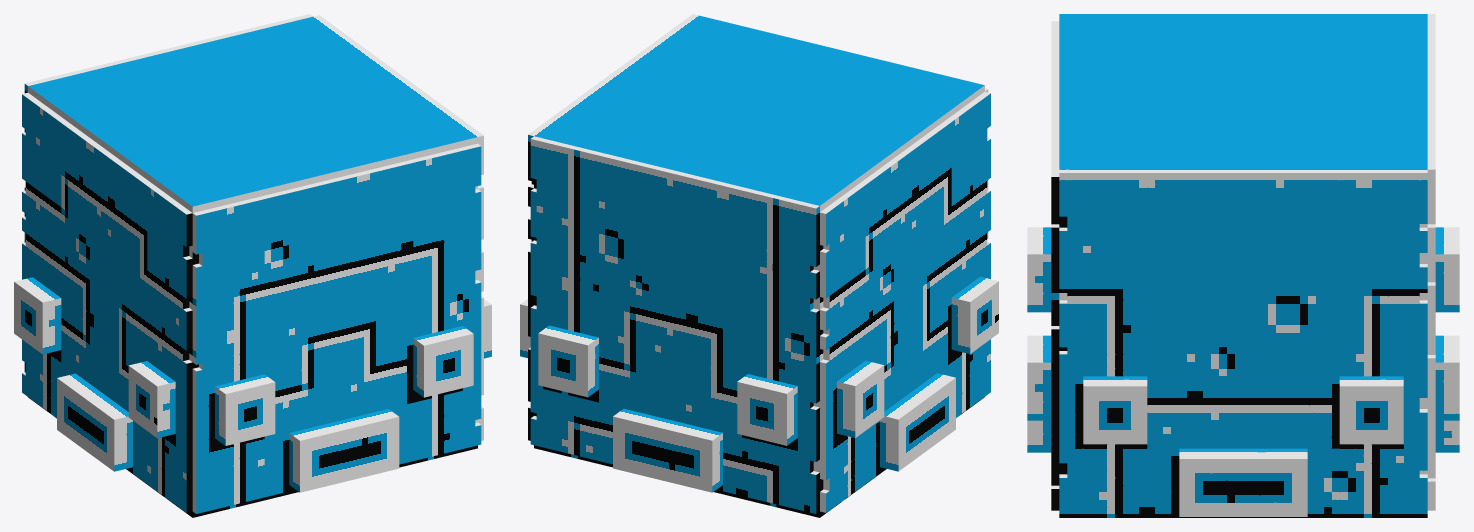
File: cmy_zuhead_lao.fezao.glb
The picture shows the model from 3 angles, left to right: view 1: azimuth 30°, elevation 25°; view 2: azimuth 150°, elevation 25°; view 3: azimuth 270°, elevation 25°; orthographic projection. The views are drawn at different scales.
Visible parts, largest first — view 1: CMY_ZUHEAD_LAO; view 2: CMY_ZUHEAD_LAO; view 3: CMY_ZUHEAD_LAO.
Boxes of the visible parts, x1,y1,x2,y2 form: CMY_ZUHEAD_LAO: (14,14,491,517); CMY_ZUHEAD_LAO: (520,14,998,517); CMY_ZUHEAD_LAO: (1027,14,1459,517).
Bounding box in the file's own units: 3.38 × 3 × 3.38.
1 material, 1 textured.
